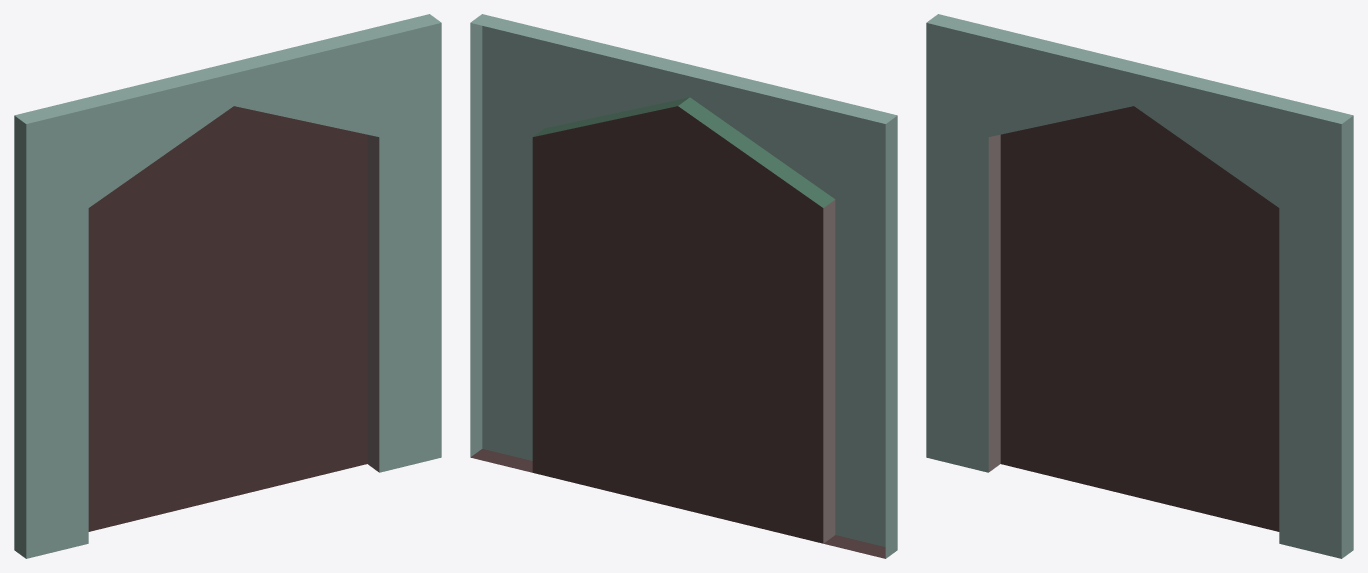
File: SM_Porte2x2_2.FBX
3 views of the same model, side by side, from view 1: azimuth 30°, elevation 25°; view 2: azimuth 150°, elevation 25°; view 3: azimuth 330°, elevation 25° (orthographic).
Parts seen in each view (by area): view 1: SM_Porte2x2_2; view 2: SM_Porte2x2_2; view 3: SM_Porte2x2_2.
Boxes of the visible parts, <box> form: SM_Porte2x2_2: <box>14,14,441,558</box>; SM_Porte2x2_2: <box>470,14,897,558</box>; SM_Porte2x2_2: <box>926,14,1353,558</box>.
Bounding box in the file's own units: 200 × 200 × 10.01.
